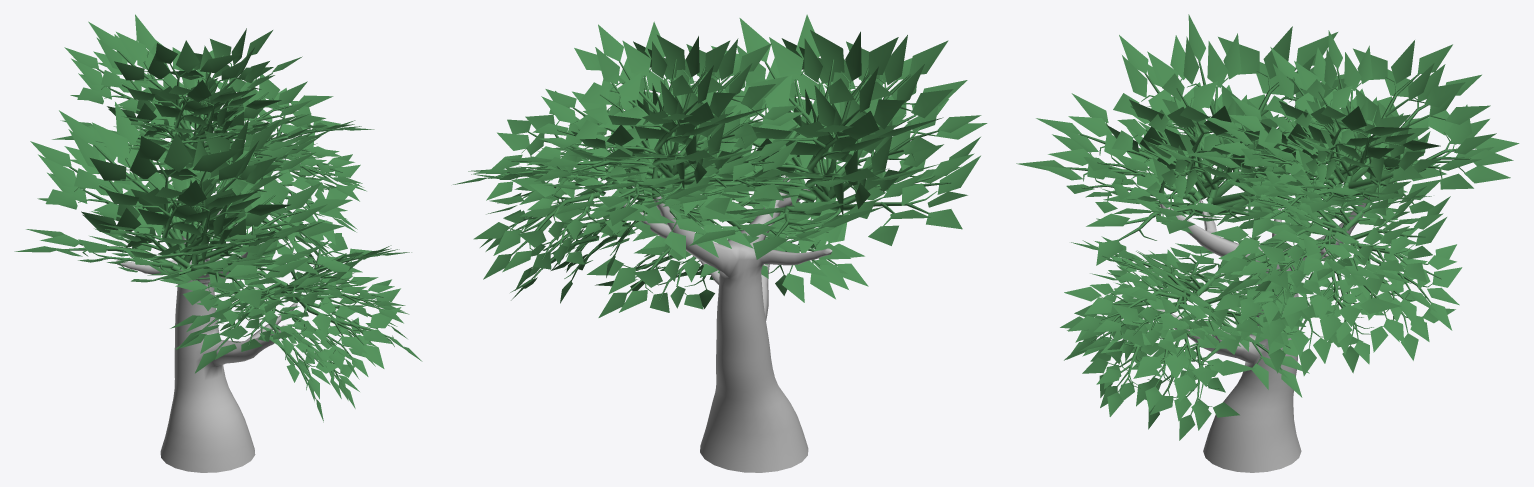
File: tree1.fbx
3 views of the same model, side by side, from view 1: azimuth 30°, elevation 25°; view 2: azimuth 150°, elevation 25°; view 3: azimuth 270°, elevation 25° (orthographic). The views are drawn at different scales.
Visible parts, largest first — view 1: tree4; view 2: tree4; view 3: tree4.
Part boxes in pixels (bbox=[...]): tree4: bbox=[14, 14, 422, 472]; tree4: bbox=[453, 14, 987, 472]; tree4: bbox=[1016, 14, 1519, 472].
Size of the model in its own units: 21.87 by 21.32 by 23.53.
